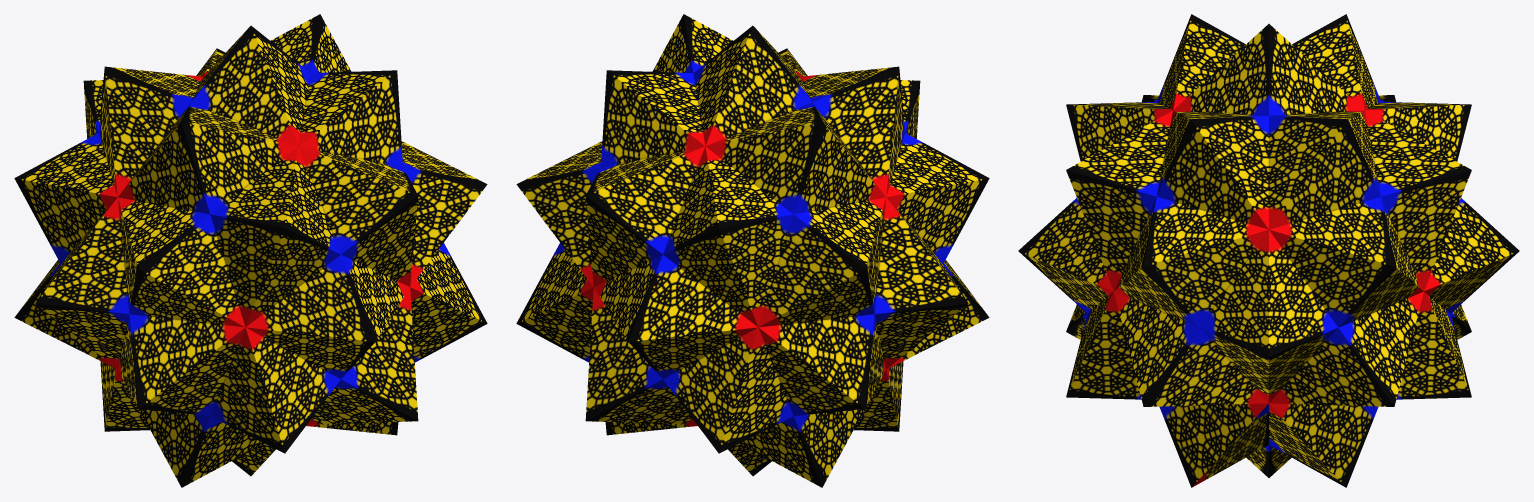
File: 5-octahedra-compound.gltf
The picture shows the model from 3 angles, left to right: view 1: azimuth 30°, elevation 25°; view 2: azimuth 150°, elevation 25°; view 3: azimuth 270°, elevation 25°; orthographic projection.
Visible parts, largest first — view 1: Octahedra 5; view 2: Octahedra 5; view 3: Octahedra 5.
Boxes of the visible parts, x1=… form: Octahedra 5: x1=14, y1=14, x2=487, y2=487; Octahedra 5: x1=516, y1=14, x2=989, y2=487; Octahedra 5: x1=1018, y1=14, x2=1519, y2=487.
Size of the model in its own units: 10 by 10 by 10.
1 material, 1 textured.
